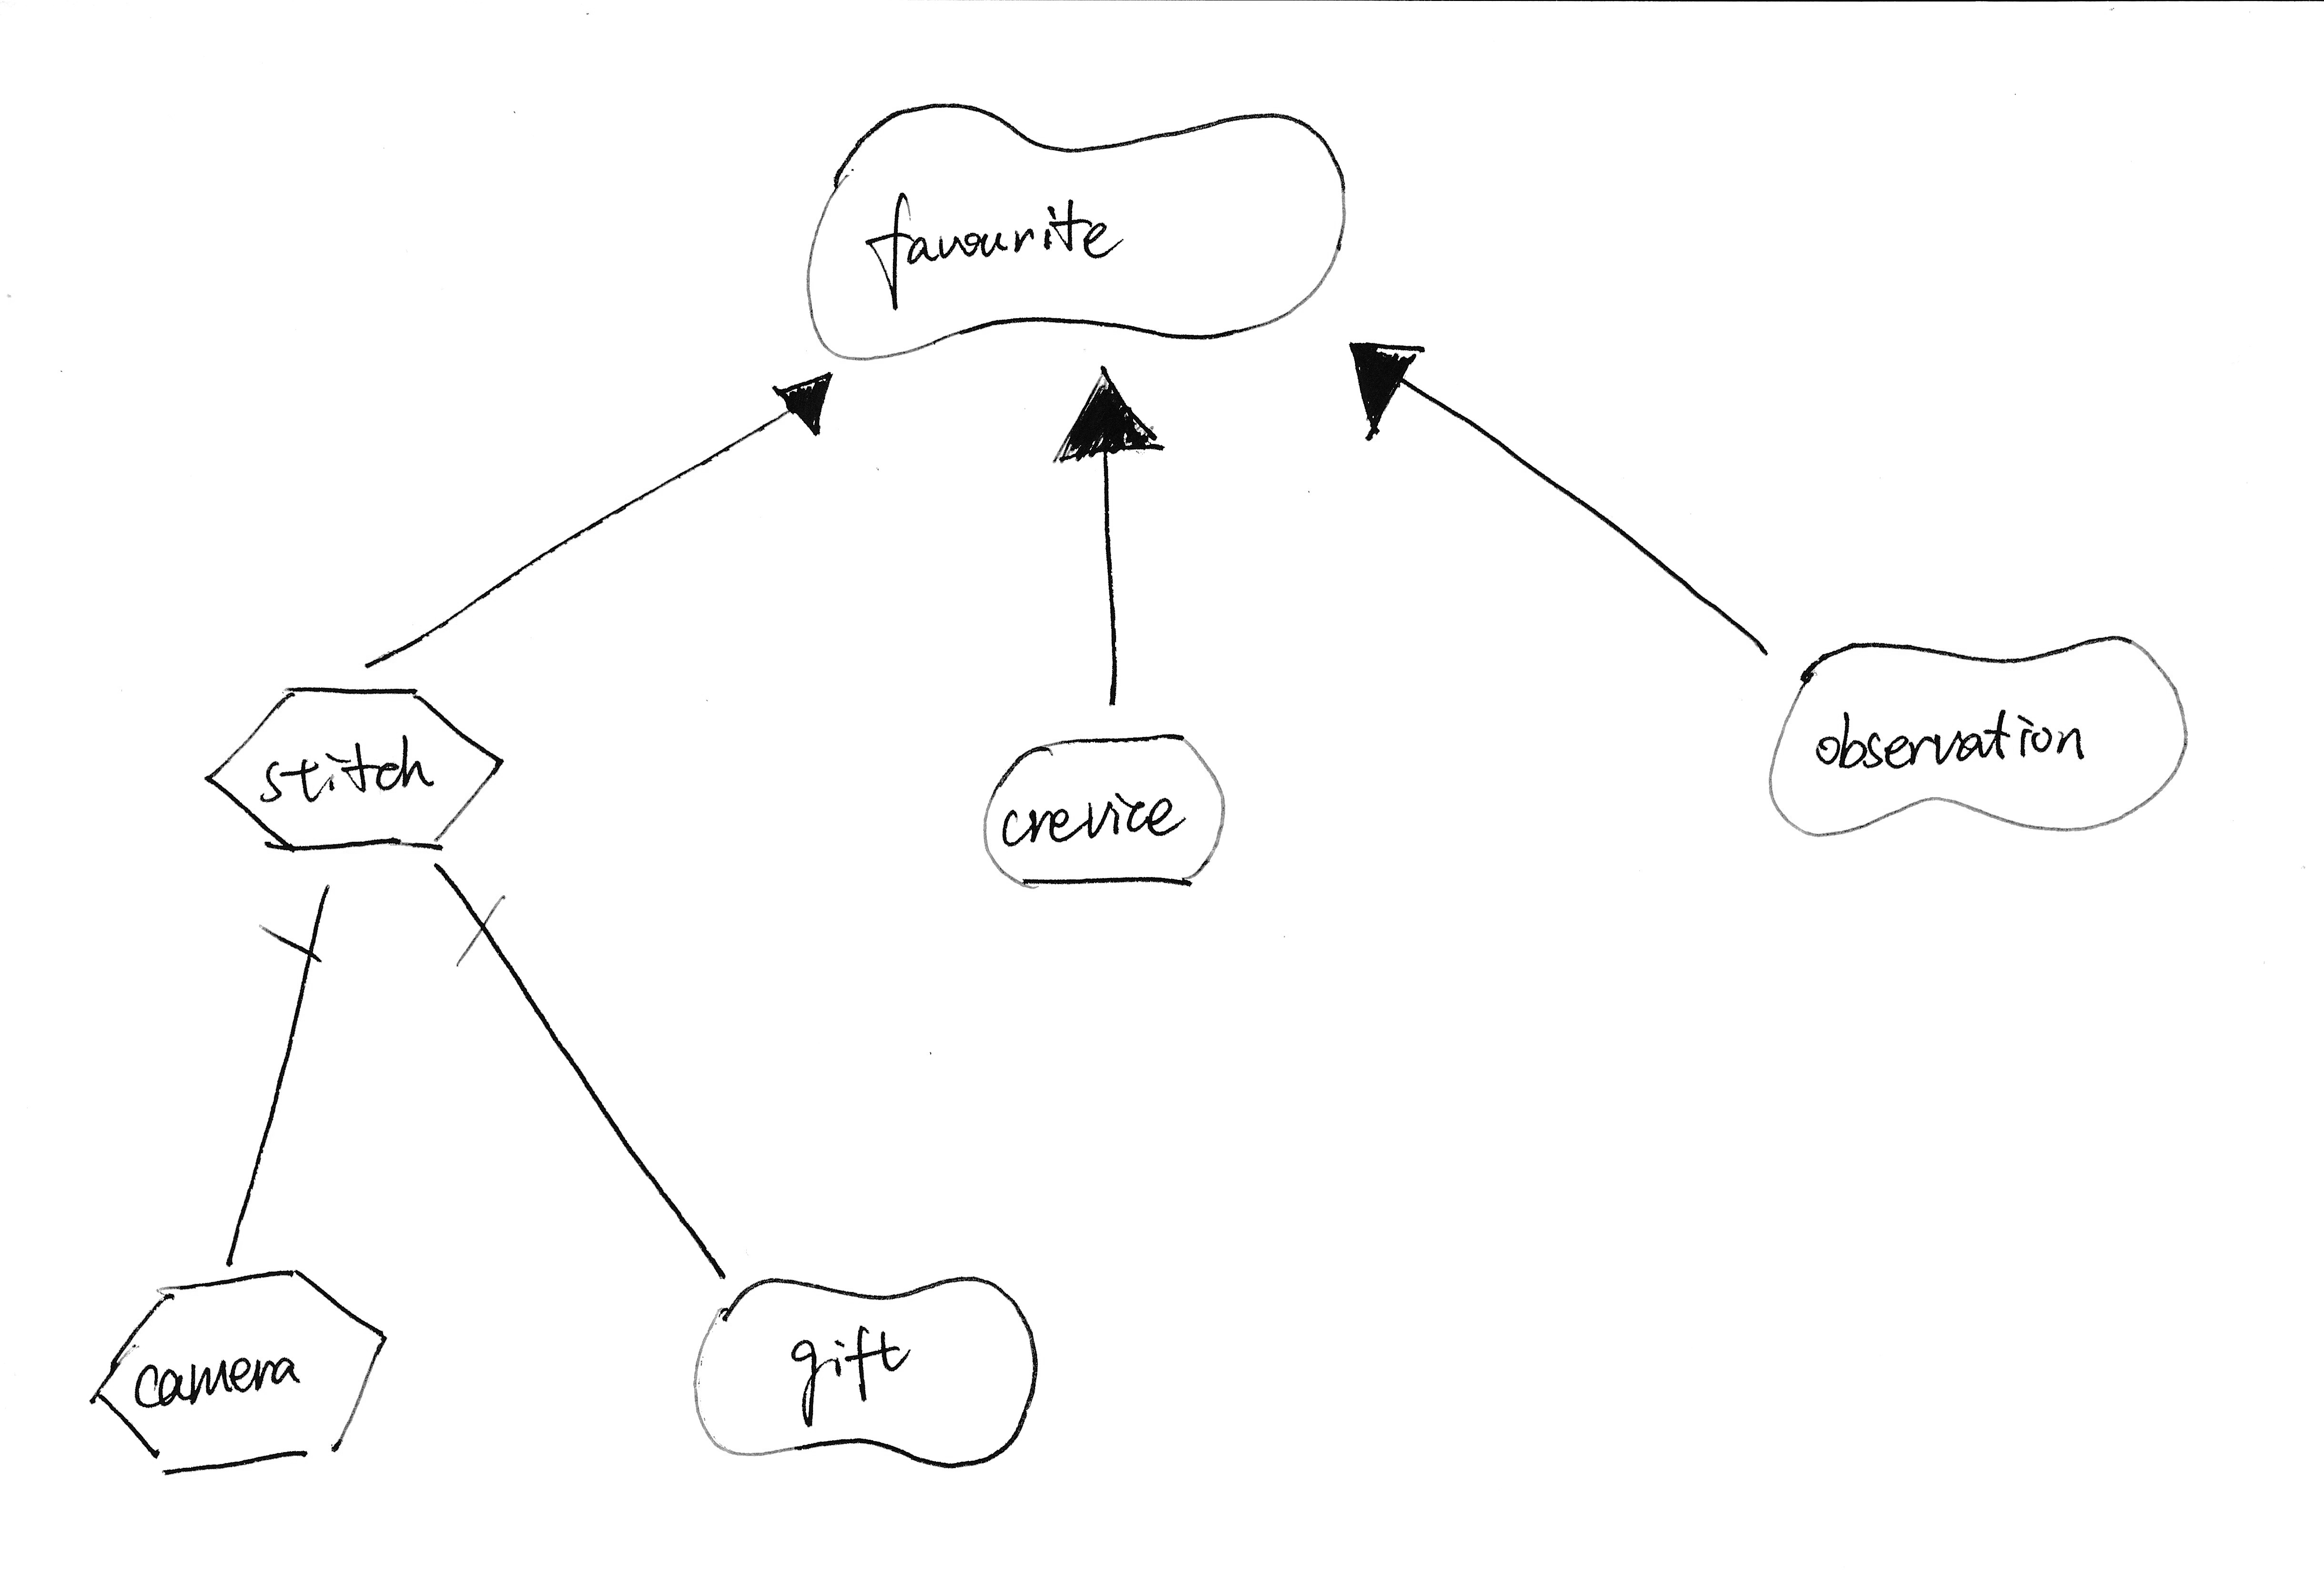and: (245, 907, 354, 997), (438, 877, 528, 977)
goal: (972, 717, 1248, 902)
or: (1039, 359, 1180, 486), (1331, 326, 1438, 453), (757, 358, 847, 467)
quality: (789, 81, 1361, 375), (1759, 615, 2210, 851), (685, 1261, 1048, 1478), (70, 1254, 405, 1488), (190, 671, 521, 870)
